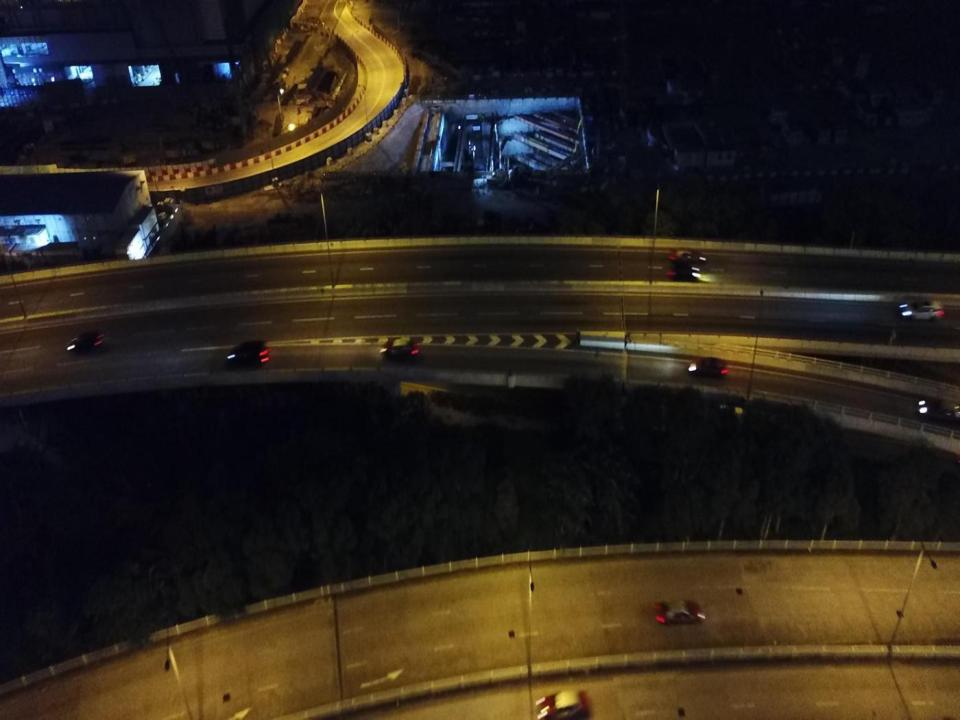car: (536, 691, 589, 719), (655, 601, 705, 626), (919, 397, 960, 425), (378, 340, 422, 365), (226, 342, 270, 367), (900, 300, 945, 324), (65, 330, 104, 354), (688, 359, 730, 380), (667, 248, 706, 268), (670, 265, 702, 282)
